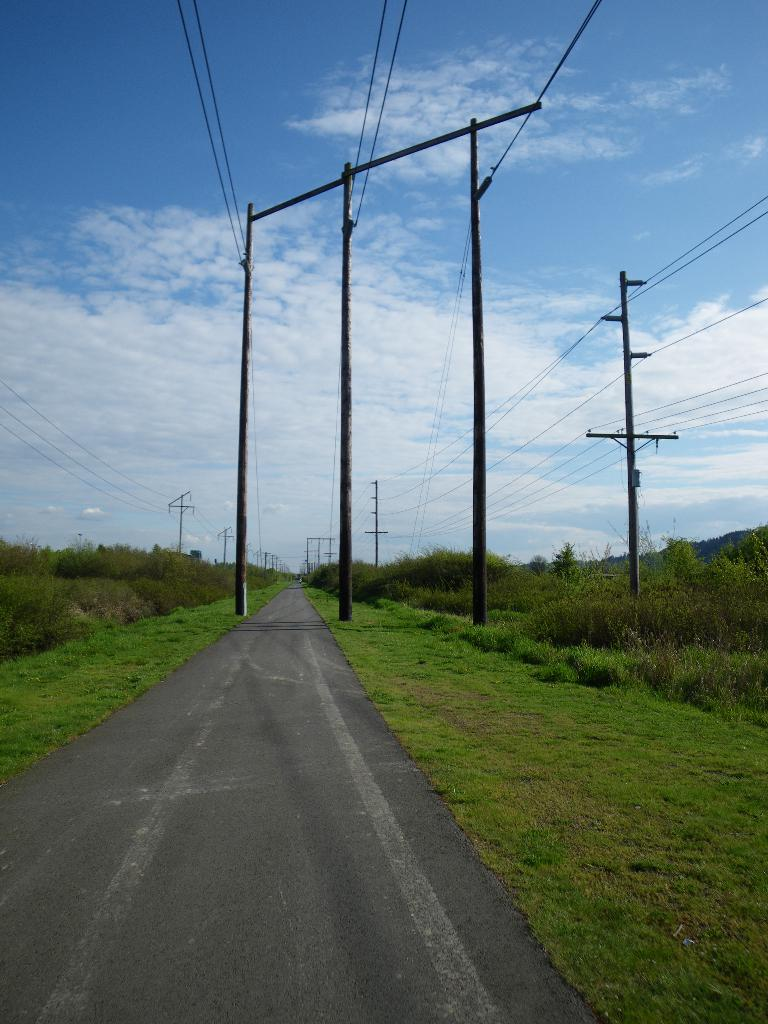Tree: (711, 519, 767, 580), (552, 542, 585, 582)
